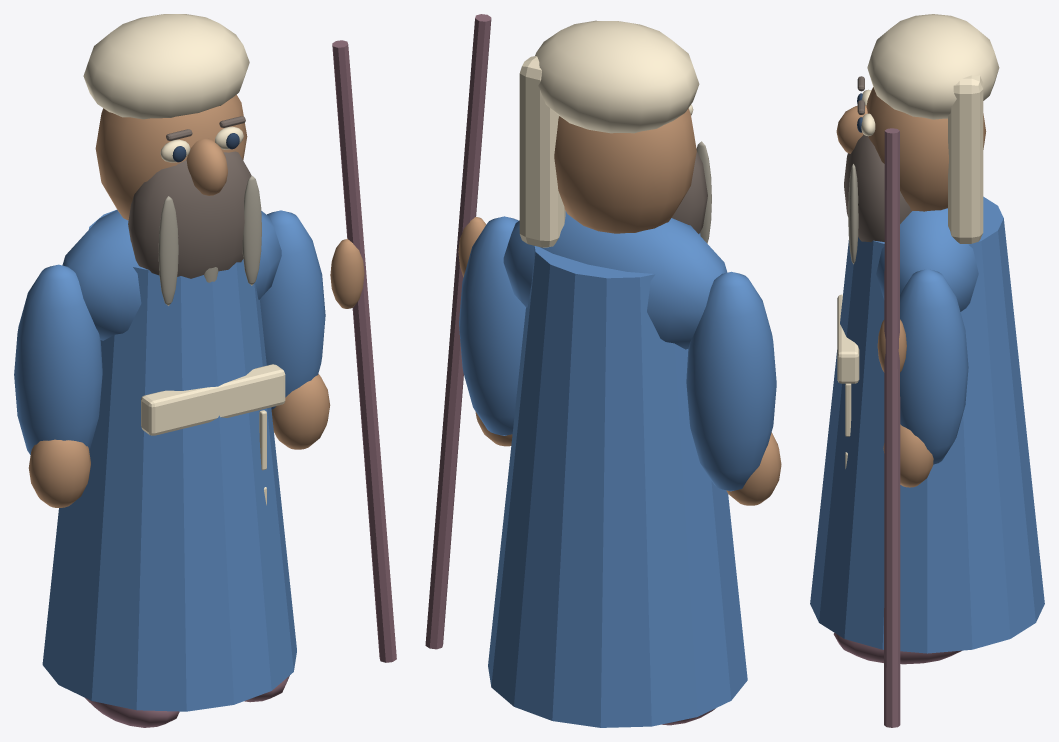
File: abram.glb
3 renders of one model, left to right at view 1: azimuth 30°, elevation 25°; view 2: azimuth 150°, elevation 25°; view 3: azimuth 270°, elevation 25°, orthographic. The views are drawn at different scales.
Visible parts, largest first — view 1: Robe, Head cloth, ArmL, Staff, Beard, ArmR, Shoulders, Head, Sash, Hand, Hand.001, Staff grip (+4 smaller); view 2: Robe, ArmL, Head cloth, Head, Shoulders, ArmR, Staff, Cloth tail, Hand, Beard, Staff grip, Gray streak; view 3: Robe, ArmR, Staff, Head cloth, Head, Cloth tail, Shoulders, Beard, Hand.001, Sash, FootR, Gray streak.002 (+2 smaller).
Boxes of the visible parts, bbox=[...] form: Robe: bbox=[42, 209, 296, 711]; Head cloth: bbox=[83, 14, 249, 119]; ArmL: bbox=[14, 264, 102, 454]; Staff: bbox=[332, 40, 396, 662]; Beard: bbox=[128, 151, 251, 278]; ArmR: bbox=[260, 210, 325, 409]; Shoulders: bbox=[62, 210, 281, 340]; Head: bbox=[95, 94, 247, 220]; Sash: bbox=[141, 364, 285, 435]; Hand: bbox=[28, 439, 90, 507]; Hand.001: bbox=[271, 374, 330, 449]; Staff grip: bbox=[330, 239, 364, 308]; Robe: bbox=[488, 233, 747, 727]; ArmL: bbox=[686, 271, 776, 491]; Head cloth: bbox=[535, 20, 699, 133]; Head: bbox=[554, 108, 696, 233]; Shoulders: bbox=[503, 211, 727, 349]; ArmR: bbox=[459, 216, 525, 435]; Staff: bbox=[425, 14, 491, 649]; Cloth tail: bbox=[519, 56, 565, 247]; Hand: bbox=[726, 432, 781, 505]; Beard: bbox=[672, 151, 707, 233]; Staff grip: bbox=[458, 217, 486, 277]; Gray streak: bbox=[696, 141, 711, 243]; Robe: bbox=[810, 196, 1044, 653]; ArmR: bbox=[900, 269, 968, 464]; Staff: bbox=[884, 128, 900, 727]; Head cloth: bbox=[867, 14, 999, 119]; Head: bbox=[866, 87, 986, 211]; Cloth tail: bbox=[948, 75, 983, 243]; Shoulders: bbox=[876, 208, 978, 311]; Beard: bbox=[844, 134, 911, 242]; Hand.001: bbox=[883, 424, 933, 487]; Sash: bbox=[837, 294, 859, 383]; FootR: bbox=[833, 633, 961, 664]; Gray streak.002: bbox=[848, 164, 858, 264].
Bounding box in the file's own units: 1.28 × 2.3 × 0.8.
